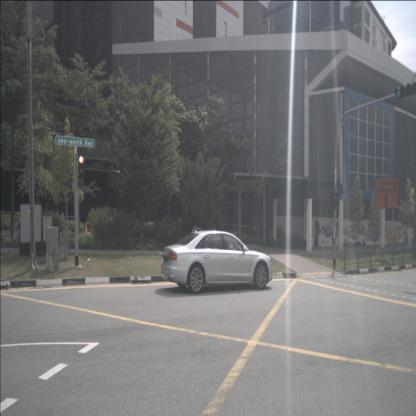movable_object-trafficcone: (83, 221, 88, 236)
vehicle-car: (161, 229, 273, 293)
